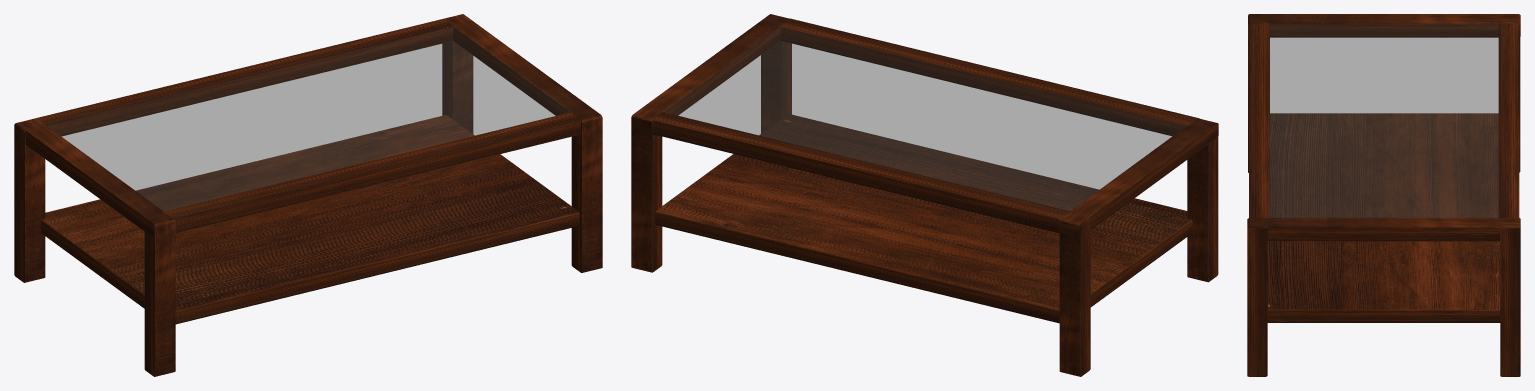
Rendered from state-default.glb.
3 renders of one model, left to right at view 1: azimuth 30°, elevation 25°; view 2: azimuth 150°, elevation 25°; view 3: azimuth 270°, elevation 25°, orthographic. The views are drawn at different scales.
Parts seen in each view (by area): view 1: assetPrim:95e67f414e06f8-19c73110d54:3d4ae7c4a3d38-19c72b594, assetPrim:95e67f414e06f8-19c73110d54:coffee-table-top, assetPrim:95e67f414e06f8-19c73110d54:13331d028910b-19c72b006, assetPrim:95e67f414e06f8-19c73110d54:c8fe273aac16f8-19c72b07, assetPrim:95e67f414e06f8-19c73110d54:90cd3130b5cb98-19c72b23, assetPrim:95e67f414e06f8-19c73110d54:e36b247e95b9c8-19c72b4b, assetPrim:95e67f414e06f8-19c73110d54:71ec4acf05512-19c72b425, assetPrim:95e67f414e06f8-19c73110d54:ec0076266801f8-19c72b0a, assetPrim:95e67f414e06f8-19c73110d54:035a7dc0c14778-19c72b53, assetPrim:95e67f414e06f8-19c73110d54:7e80be91700718-19c72b2b; view 2: assetPrim:95e67f414e06f8-19c73110d54:3d4ae7c4a3d38-19c72b594, assetPrim:95e67f414e06f8-19c73110d54:coffee-table-top, assetPrim:95e67f414e06f8-19c73110d54:c8fe273aac16f8-19c72b07, assetPrim:95e67f414e06f8-19c73110d54:13331d028910b-19c72b006, assetPrim:95e67f414e06f8-19c73110d54:90cd3130b5cb98-19c72b23, assetPrim:95e67f414e06f8-19c73110d54:035a7dc0c14778-19c72b53, assetPrim:95e67f414e06f8-19c73110d54:7e80be91700718-19c72b2b, assetPrim:95e67f414e06f8-19c73110d54:ec0076266801f8-19c72b0a, assetPrim:95e67f414e06f8-19c73110d54:e36b247e95b9c8-19c72b4b, assetPrim:95e67f414e06f8-19c73110d54:71ec4acf05512-19c72b425; view 3: assetPrim:95e67f414e06f8-19c73110d54:coffee-table-top, assetPrim:95e67f414e06f8-19c73110d54:3d4ae7c4a3d38-19c72b594, assetPrim:95e67f414e06f8-19c73110d54:ec0076266801f8-19c72b0a, assetPrim:95e67f414e06f8-19c73110d54:90cd3130b5cb98-19c72b23, assetPrim:95e67f414e06f8-19c73110d54:c8fe273aac16f8-19c72b07, assetPrim:95e67f414e06f8-19c73110d54:13331d028910b-19c72b006, assetPrim:95e67f414e06f8-19c73110d54:71ec4acf05512-19c72b425, assetPrim:95e67f414e06f8-19c73110d54:7e80be91700718-19c72b2b, assetPrim:95e67f414e06f8-19c73110d54:035a7dc0c14778-19c72b53.
Part boxes in pixels (<box>): assetPrim:95e67f414e06f8-19c73110d54:3d4ae7c4a3d38-19c72b594: <box>41,115,579,324</box>; assetPrim:95e67f414e06f8-19c73110d54:coffee-table-top: <box>48,27,570,211</box>; assetPrim:95e67f414e06f8-19c73110d54:13331d028910b-19c72b006: <box>163,112,582,232</box>; assetPrim:95e67f414e06f8-19c73110d54:c8fe273aac16f8-19c72b07: <box>35,18,453,136</box>; assetPrim:95e67f414e06f8-19c73110d54:90cd3130b5cb98-19c72b23: <box>15,118,174,238</box>; assetPrim:95e67f414e06f8-19c73110d54:e36b247e95b9c8-19c72b4b: <box>144,221,175,376</box>; assetPrim:95e67f414e06f8-19c73110d54:71ec4acf05512-19c72b425: <box>571,116,602,272</box>; assetPrim:95e67f414e06f8-19c73110d54:ec0076266801f8-19c72b0a: <box>443,14,601,133</box>; assetPrim:95e67f414e06f8-19c73110d54:035a7dc0c14778-19c72b53: <box>14,124,45,282</box>; assetPrim:95e67f414e06f8-19c73110d54:7e80be91700718-19c72b2b: <box>442,41,473,133</box>; assetPrim:95e67f414e06f8-19c73110d54:3d4ae7c4a3d38-19c72b594: <box>655,114,1192,323</box>; assetPrim:95e67f414e06f8-19c73110d54:coffee-table-top: <box>662,27,1185,210</box>; assetPrim:95e67f414e06f8-19c73110d54:c8fe273aac16f8-19c72b07: <box>652,112,1070,233</box>; assetPrim:95e67f414e06f8-19c73110d54:13331d028910b-19c72b006: <box>780,18,1199,136</box>; assetPrim:95e67f414e06f8-19c73110d54:90cd3130b5cb98-19c72b23: <box>1058,118,1218,237</box>; assetPrim:95e67f414e06f8-19c73110d54:035a7dc0c14778-19c72b53: <box>1059,218,1090,376</box>; assetPrim:95e67f414e06f8-19c73110d54:7e80be91700718-19c72b2b: <box>631,117,662,272</box>; assetPrim:95e67f414e06f8-19c73110d54:ec0076266801f8-19c72b0a: <box>631,14,789,133</box>; assetPrim:95e67f414e06f8-19c73110d54:e36b247e95b9c8-19c72b4b: <box>1187,137,1218,282</box>; assetPrim:95e67f414e06f8-19c73110d54:71ec4acf05512-19c72b425: <box>761,41,791,133</box>; assetPrim:95e67f414e06f8-19c73110d54:coffee-table-top: <box>1270,24,1498,217</box>; assetPrim:95e67f414e06f8-19c73110d54:3d4ae7c4a3d38-19c72b594: <box>1267,113,1500,322</box>; assetPrim:95e67f414e06f8-19c73110d54:ec0076266801f8-19c72b0a: <box>1248,217,1520,241</box>; assetPrim:95e67f414e06f8-19c73110d54:90cd3130b5cb98-19c72b23: <box>1248,14,1520,37</box>; assetPrim:95e67f414e06f8-19c73110d54:c8fe273aac16f8-19c72b07: <box>1498,23,1519,217</box>; assetPrim:95e67f414e06f8-19c73110d54:13331d028910b-19c72b006: <box>1249,23,1269,218</box>; assetPrim:95e67f414e06f8-19c73110d54:71ec4acf05512-19c72b425: <box>1247,219,1267,376</box>; assetPrim:95e67f414e06f8-19c73110d54:7e80be91700718-19c72b2b: <box>1500,228,1520,376</box>; assetPrim:95e67f414e06f8-19c73110d54:035a7dc0c14778-19c72b53: <box>1519,37,1520,172</box>.
Bounding box in the file's own units: 1.31 × 0.4258 × 0.7063.
Materials: 10 (9 with a texture image).
